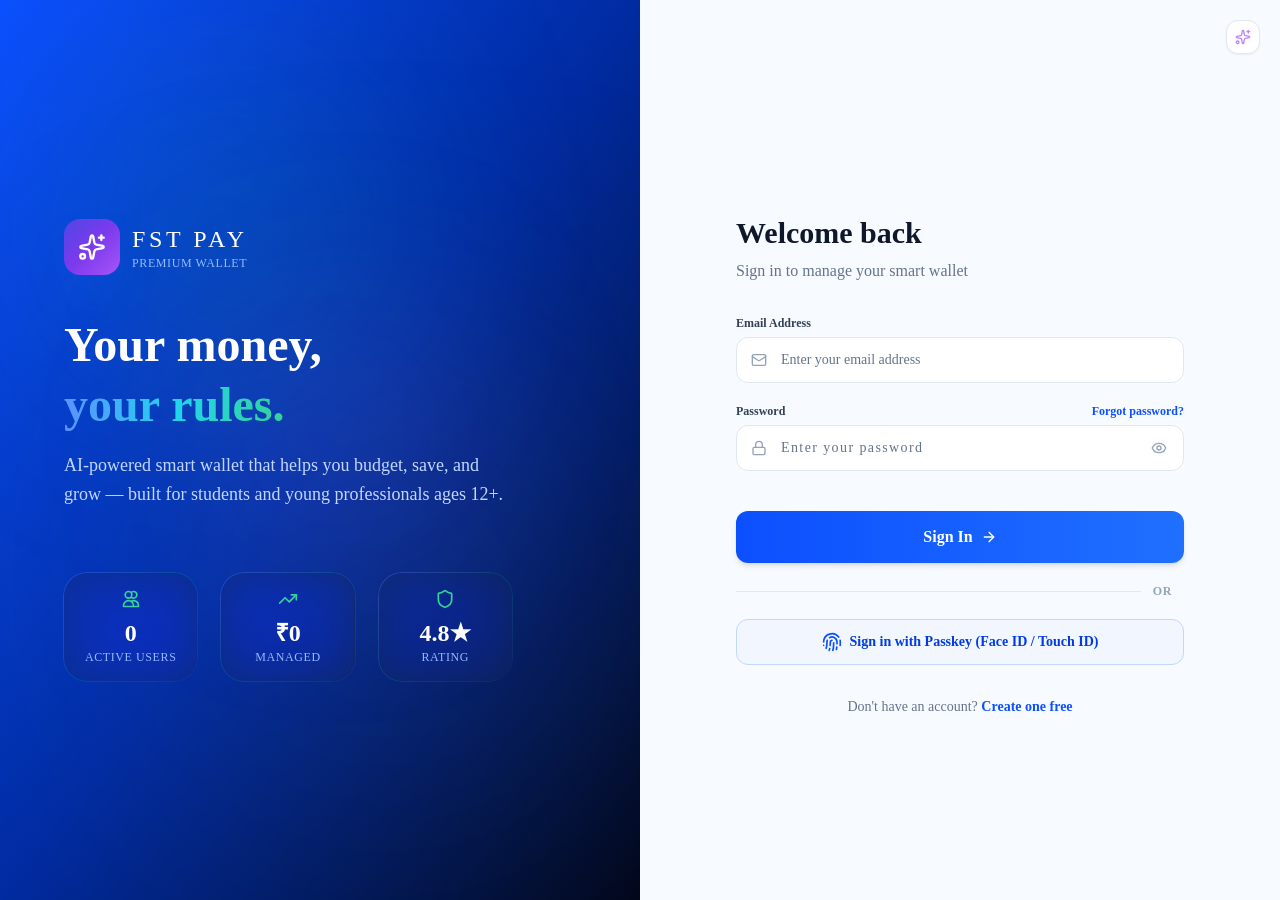
Scenario: Login - Biometric Passkey WebAuthn Authentication › displays error if WebAuthn is not supported by browser
What coordinates should you click on to do the following:
click the button "Sign in with Passkey (Face ID / Touch ID)"
I would click on:
 (960, 642)
Its box is [736, 619, 1184, 665].
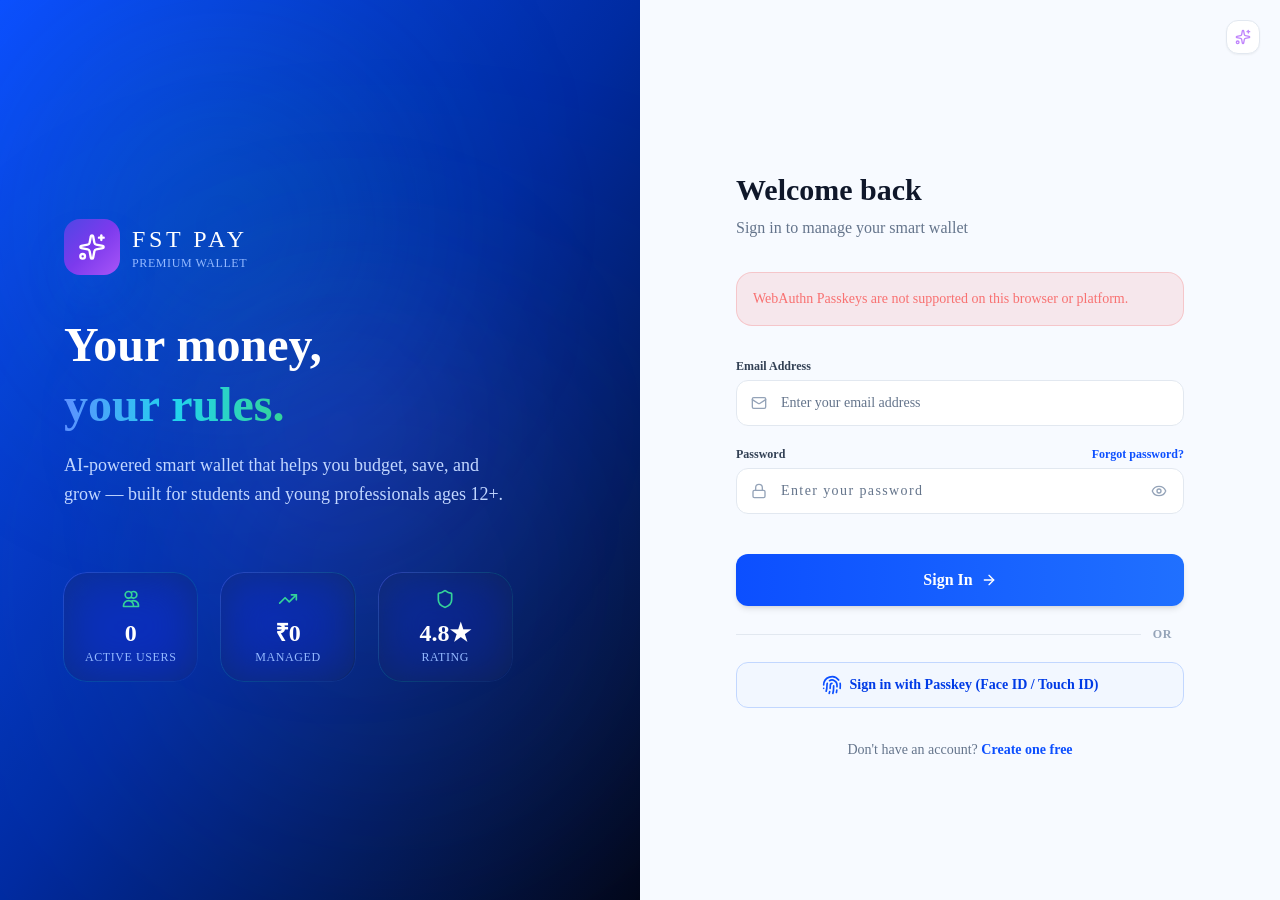
Check: the text "WebAuthn Passkeys are not supported on this browser or platform." is shown, box [736, 272, 1184, 326]
